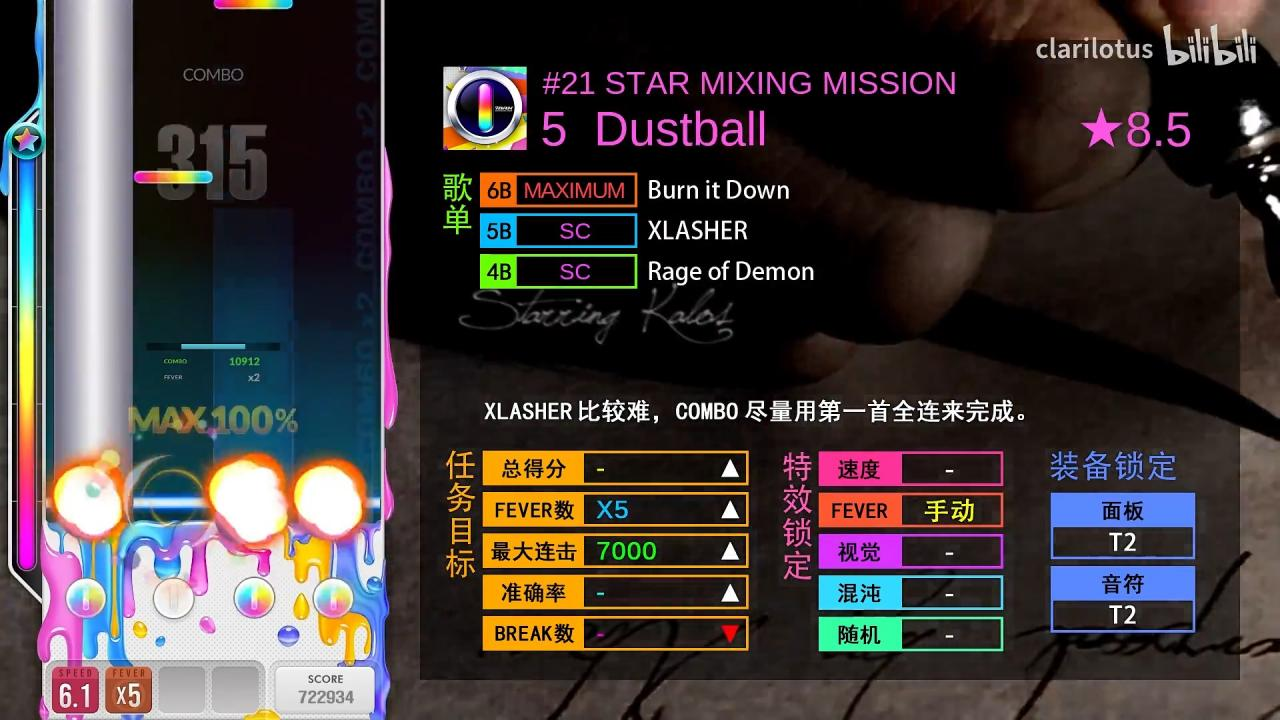note: (135, 171, 213, 184), (213, 0, 292, 11)
